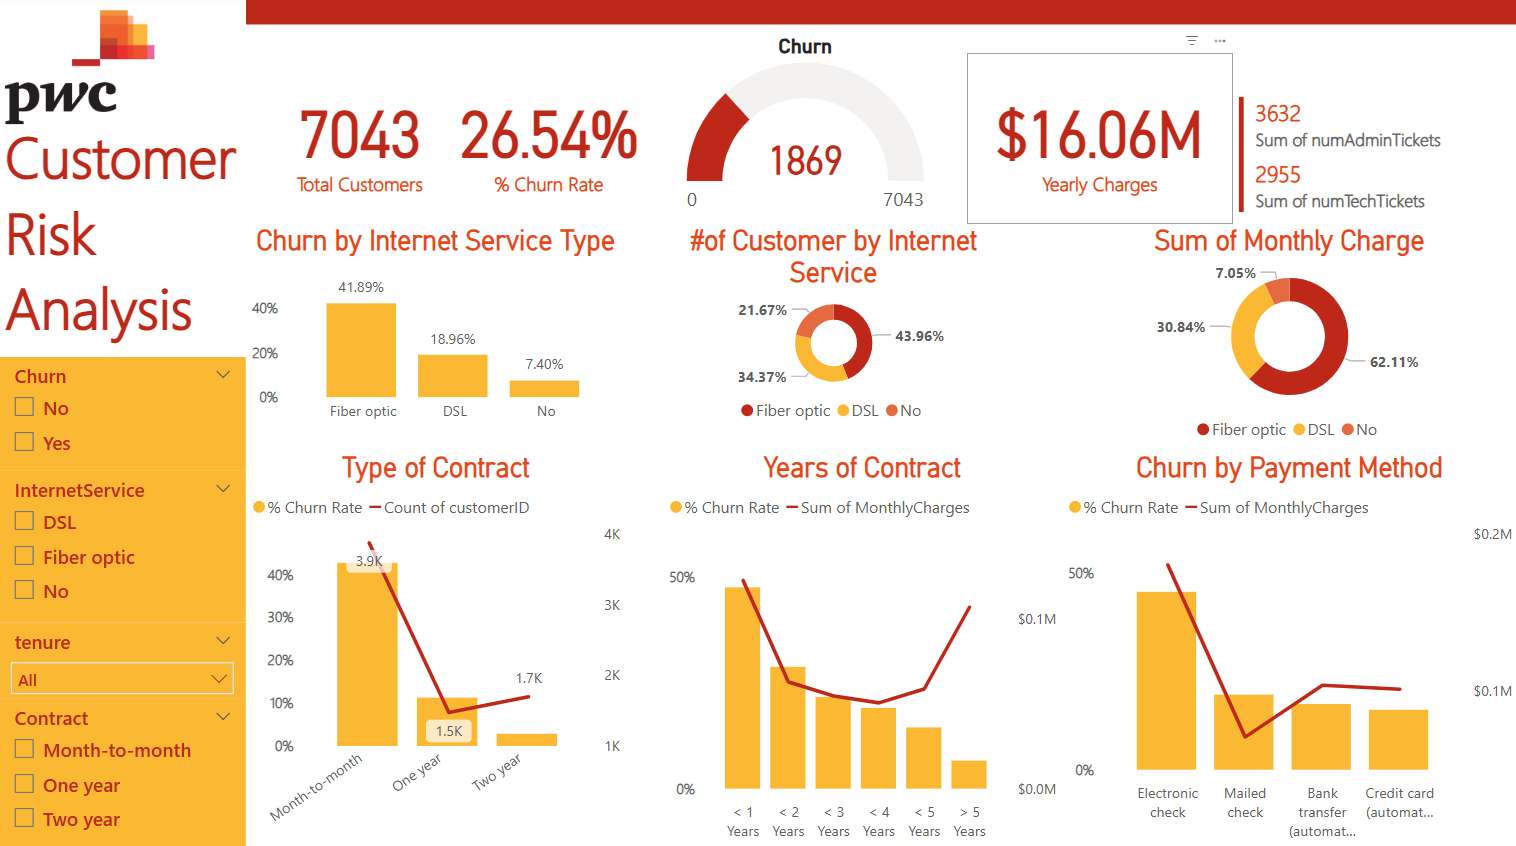

This screenshot's page, from the dashboard's own definition file:
{"tool":"powerbi","page":{"name":"Customer Risk Analysis","canvas":[1280,720],"ordinal":2},"visuals":[{"type":"card","fields":{"Values":["CountNonNull(01 Churn-Dataset.customerID)"]},"box":[224,48,160,144],"z":0},{"type":"slicer","fields":{"Values":["01 Churn-Dataset.Churn"]},"box":[0,304,208,96],"z":1000,"group":"g1"},{"type":"card","fields":{"Values":["01 Churn-Dataset.% Churn Rate"]},"box":[368,48,192,144],"z":1000},{"type":"card","fields":{"Values":["Sum(01 Churn-Dataset.TotalCharges)"]},"box":[816,48,224,144],"z":2000},{"type":"slicer","fields":{"Values":["01 Churn-Dataset.InternetService"]},"box":[0,400,208,128],"z":2000,"group":"g1"},{"type":"multiRowCard","fields":{"Values":["Sum(01 Churn-Dataset.numAdminTickets)","Sum(01 Churn-Dataset.numTechTickets)"]},"box":[1040,80,240,112],"z":3000},{"type":"slicer","fields":{"Values":["01 Churn-Dataset.tenure"]},"box":[0,528,208,64],"z":3000,"group":"g1"},{"type":"columnChart","title":"Churn by Internet Service Type","fields":{"Category":["01 Churn-Dataset.InternetService"],"Y":["01 Churn-Dataset.% Churn Rate"]},"box":[208,192,320,176],"z":4000},{"type":"slicer","fields":{"Values":["01 Churn-Dataset.Contract"]},"box":[0,592,208,128],"z":4000,"group":"g1"},{"type":"donutChart","title":"#of Customer by Internet Service","fields":{"Y":["CountNonNull(01 Churn-Dataset.customerID)"],"Category":["01 Churn-Dataset.InternetService"]},"box":[560,192,288,176],"z":5000},{"type":"donutChart","title":"Sum of Monthly Charge","fields":{"Category":["01 Churn-Dataset.InternetService"],"Y":["Sum(01 Churn-Dataset.MonthlyCharges)"]},"box":[896,192,384,192],"z":6000},{"type":"lineStackedColumnComboChart","title":"Type of Contract","fields":{"Category":["01 Churn-Dataset.Contract"],"Y":["01 Churn-Dataset.% Churn Rate"],"Y2":["CountNonNull(01 Churn-Dataset.customerID)"]},"box":[208,384,320,336],"z":7000},{"type":"lineStackedColumnComboChart","title":"Years of Contract","fields":{"Y":["01 Churn-Dataset.% Churn Rate"],"Y2":["Sum(01 Churn-Dataset.MonthlyCharges)"],"Category":["01 Churn-Dataset.Loyalty"]},"box":[560,384,336,336],"z":8000},{"type":"gauge","title":"Churn","fields":{"Y":["01 Churn-Dataset.Count of Churn for Yes"],"MaxValue":["CountNonNull(01 Churn-Dataset.customerID)"]},"box":[544,32,272,160],"z":9000},{"type":"lineStackedColumnComboChart","title":"Churn by Payment Method","fields":{"Y":["01 Churn-Dataset.% Churn Rate"],"Y2":["Sum(01 Churn-Dataset.MonthlyCharges)"],"Category":["01 Churn-Dataset.PaymentMethod"]},"box":[896,384,384,336],"z":10000},{"type":"group","id":"g1","title":"Group 1","box":[0,304,208,416],"z":11000},{"type":"textbox","box":[0,96,208,208],"z":12000},{"type":"image","box":[0,0,136,120],"z":13000},{"type":"shape","box":[208,0,1072,24],"z":14000}]}

Visuals, with their boxes in screenshot pixels (x1, y1, x2, y2), scaled from the page's 1280x720 canvas onto the 1516x846 screenshot:
card - CountNonNull(01 Churn-Dataset.customerID): <region>265, 56, 455, 226</region>
slicer - 01 Churn-Dataset.Churn: <region>0, 357, 246, 470</region>
card - 01 Churn-Dataset.% Churn Rate: <region>436, 56, 663, 226</region>
card - Sum(01 Churn-Dataset.TotalCharges): <region>966, 56, 1232, 226</region>
slicer - 01 Churn-Dataset.InternetService: <region>0, 470, 246, 620</region>
multiRowCard - Sum(01 Churn-Dataset.numAdminTickets) x Sum(01 Churn-Dataset.numTechTickets): <region>1232, 94, 1515, 226</region>
slicer - 01 Churn-Dataset.tenure: <region>0, 620, 246, 696</region>
"Churn by Internet Service Type" columnChart: <region>246, 226, 625, 432</region>
slicer - 01 Churn-Dataset.Contract: <region>0, 696, 246, 845</region>
"#of Customer by Internet Service" donutChart: <region>663, 226, 1004, 432</region>
"Sum of Monthly Charge" donutChart: <region>1061, 226, 1515, 451</region>
"Type of Contract" lineStackedColumnComboChart: <region>246, 451, 625, 845</region>
"Years of Contract" lineStackedColumnComboChart: <region>663, 451, 1061, 845</region>
"Churn" gauge: <region>644, 38, 966, 226</region>
"Churn by Payment Method" lineStackedColumnComboChart: <region>1061, 451, 1515, 845</region>
"Group 1" group: <region>0, 357, 246, 845</region>
textbox: <region>0, 113, 246, 357</region>
image: <region>0, 0, 161, 141</region>
shape: <region>246, 0, 1515, 28</region>
